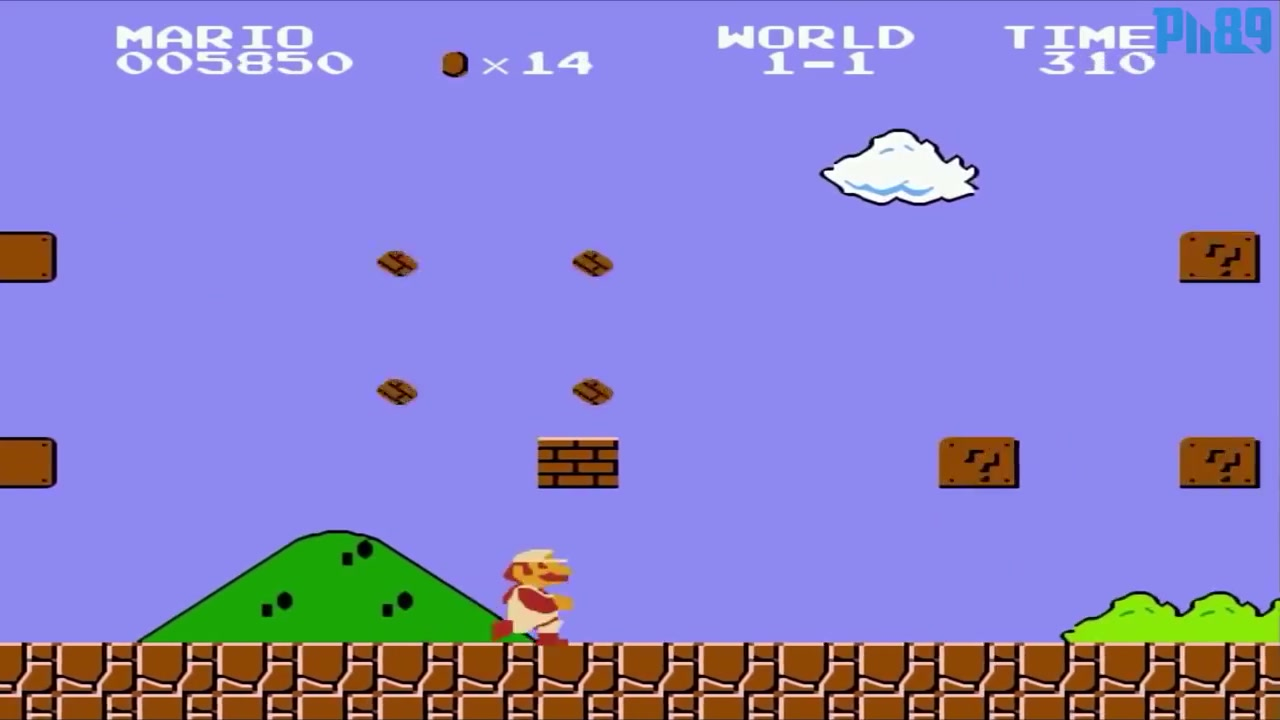mario: (486, 541, 581, 641)
